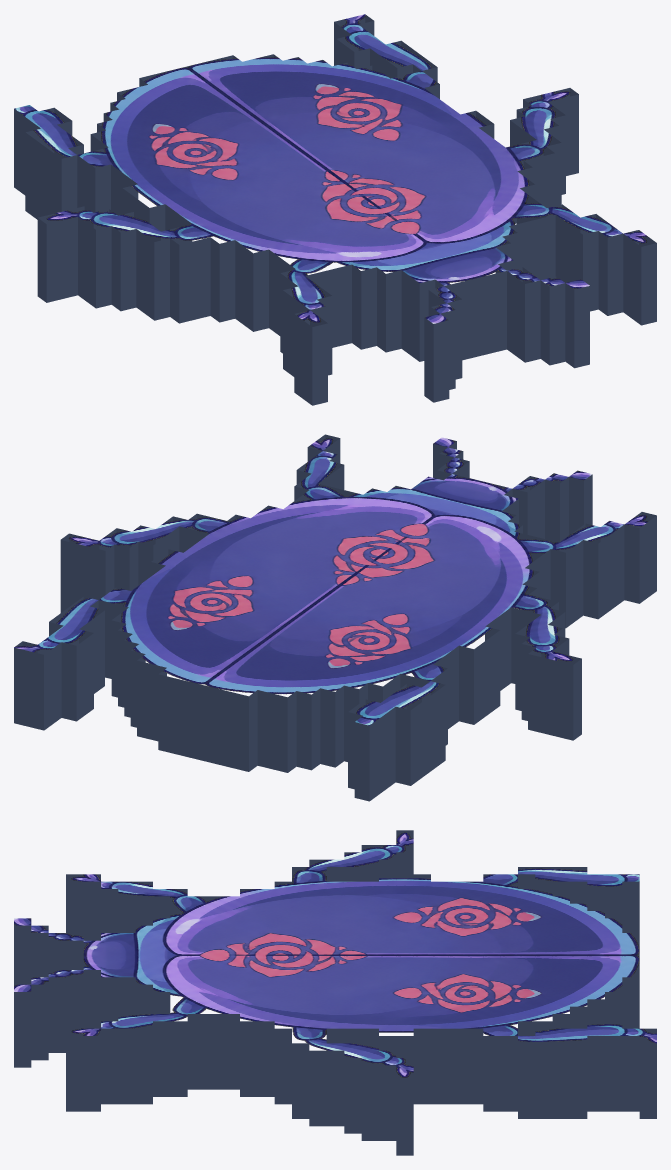
Rendered from bug_jewel.glb.
3 views of the same model, one above another, from view 1: azimuth 30°, elevation 25°; view 2: azimuth 150°, elevation 25°; view 3: azimuth 270°, elevation 25° (orthographic). The views are drawn at different scales.
Visible parts, largest first — view 1: bug_jewel; view 2: bug_jewel; view 3: bug_jewel.
Part boxes in pixels (x1=…): bug_jewel: x1=14, y1=14, x2=656, y2=405; bug_jewel: x1=14, y1=434, x2=656, y2=801; bug_jewel: x1=14, y1=830, x2=656, y2=1155.
Bounding box in the file's own units: 0.7083 × 0.1 × 0.7708.
Materials: 2 (1 with a texture image).
